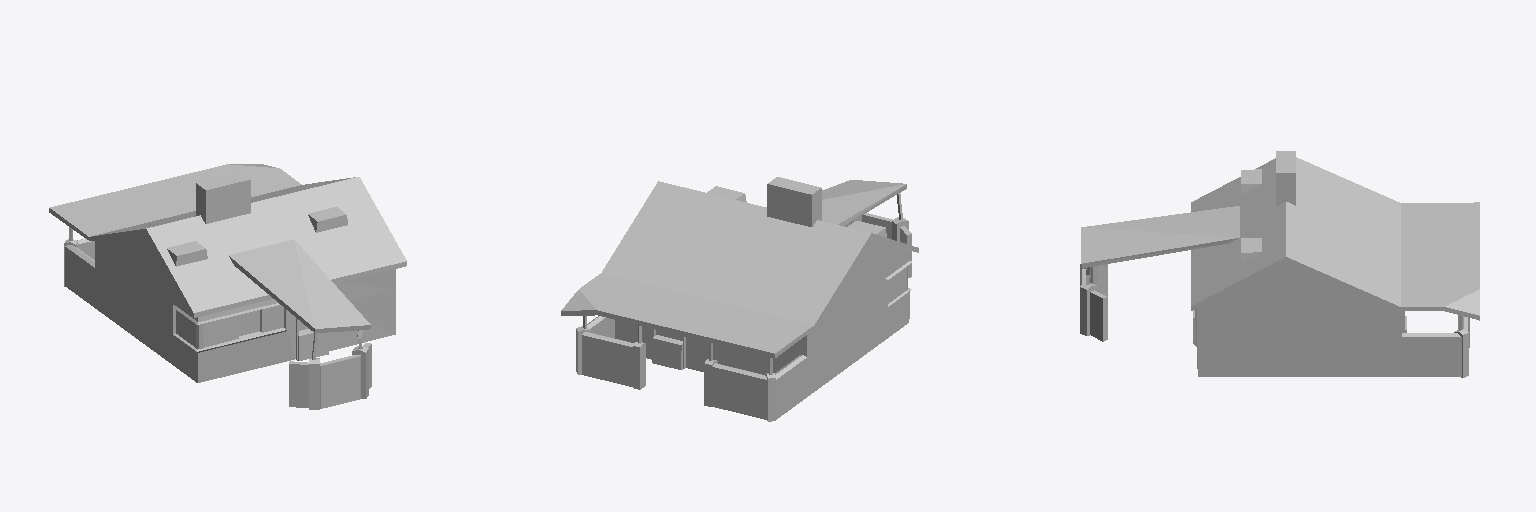
File: RanchHouseLOD.obj
3 views of the same model, side by side, from view 1: azimuth 30°, elevation 25°; view 2: azimuth 150°, elevation 25°; view 3: azimuth 270°, elevation 25° (orthographic).
Parts seen in each view (by area): view 1: collision; view 2: collision; view 3: collision.
Boxes of the visible parts, x1,y1,x2,y2 form: collision: [49, 164, 406, 409]; collision: [561, 177, 918, 421]; collision: [1080, 151, 1479, 377].
Bounding box in the file's own units: 787 × 561 × 1276.